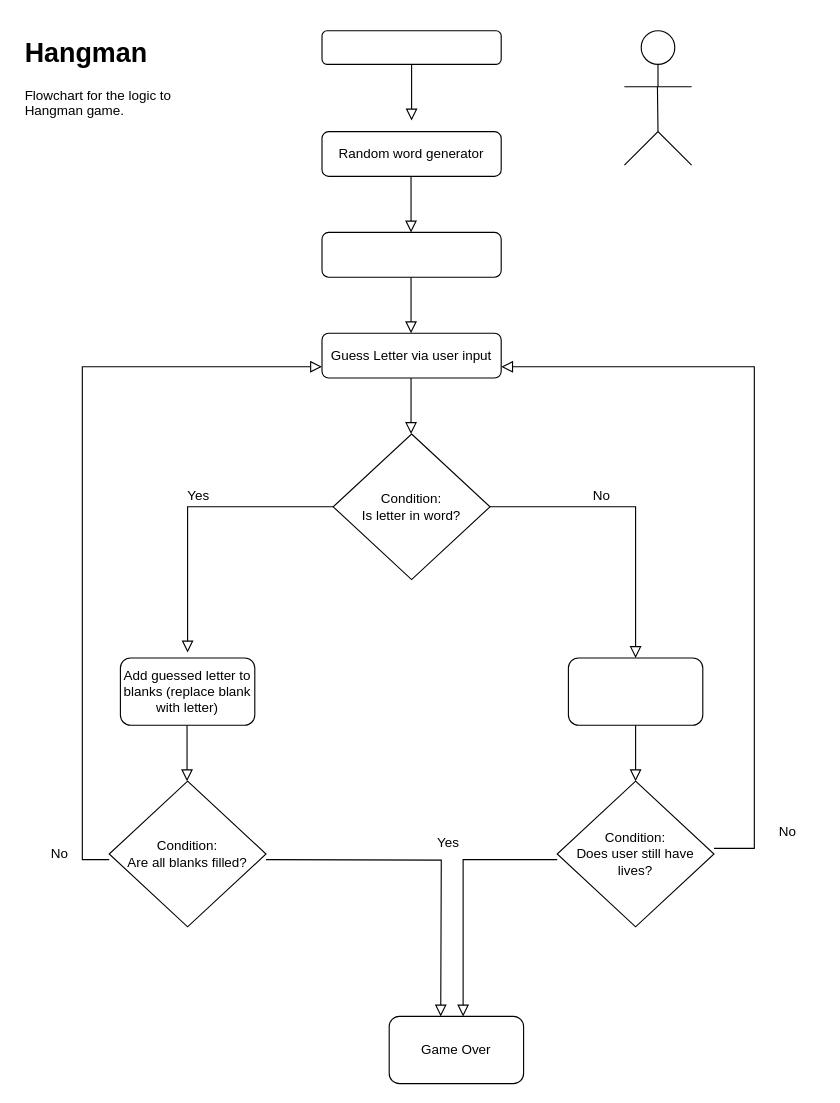
This 840x1103 diagram has some shape labels left out. Here are the shapes that lost their labels. From the top down, the centre of each, then its label:
the point at 411,47: Start
the point at 411,254: Create blanks visual
the point at 635,691: Lose a limb
